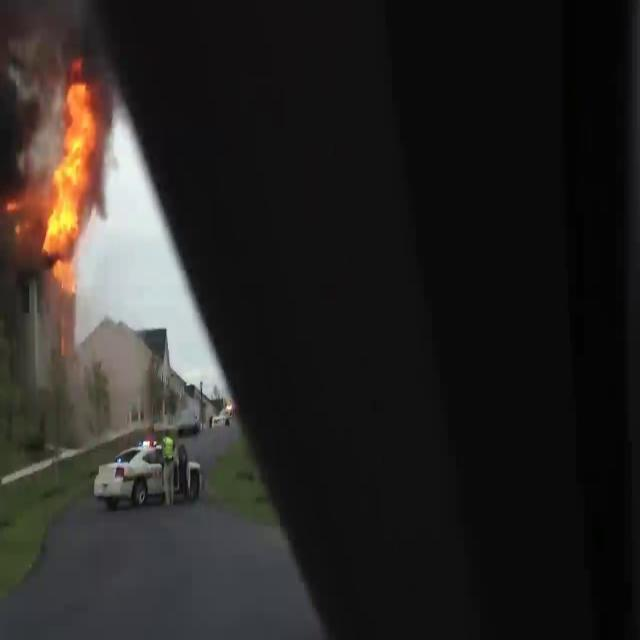Fire: (38, 64, 102, 285)
